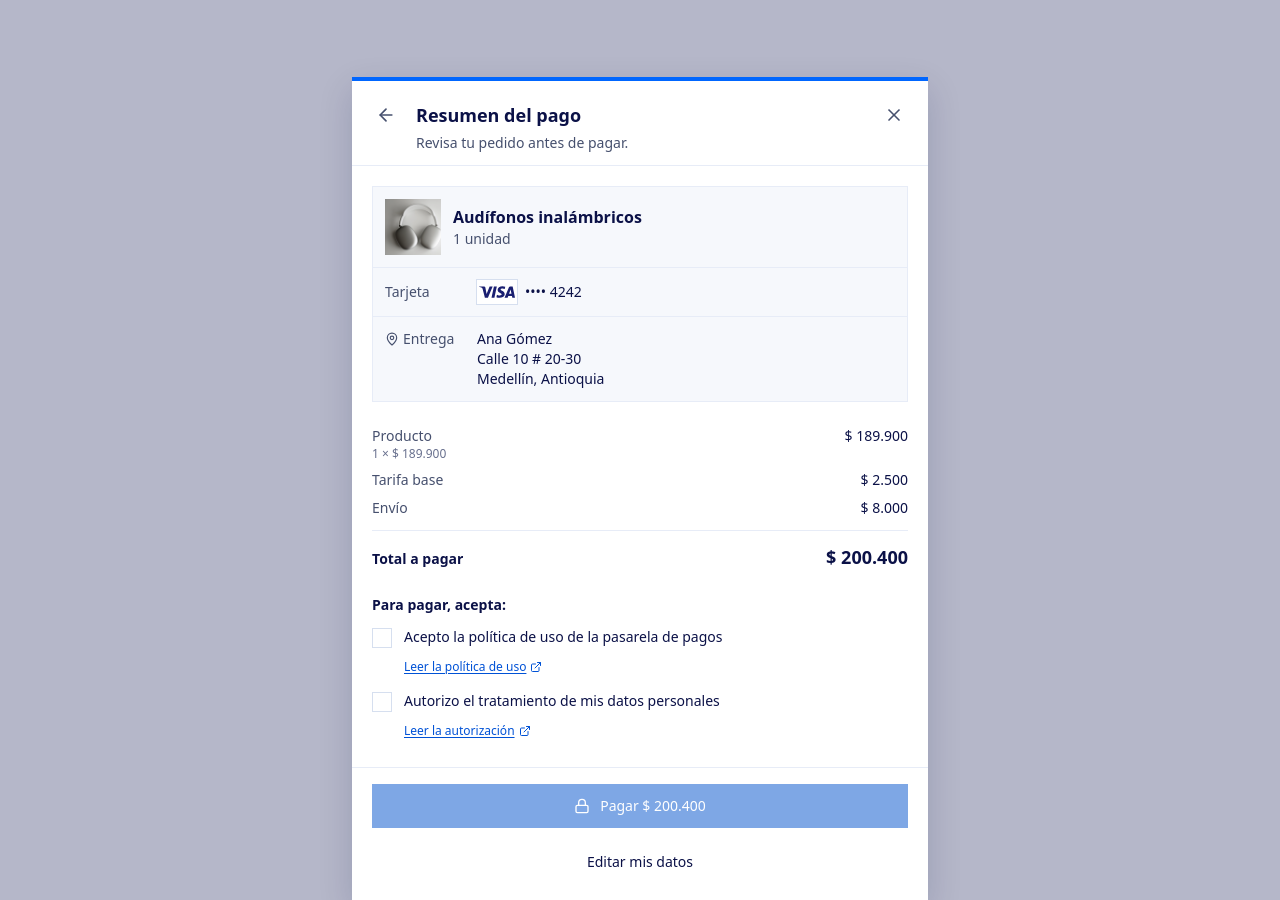
Test: SummaryBackdrop › el pago se habilita solo con los dos contratos aceptados
Expected: the button "Pagar $ 200.400" is disabled, [372,784,908,828]
Step 1. Click the checkbox labelled "Acepto la política de uso de la pasarela de pagos" → (547, 638), box [372,627,722,648]
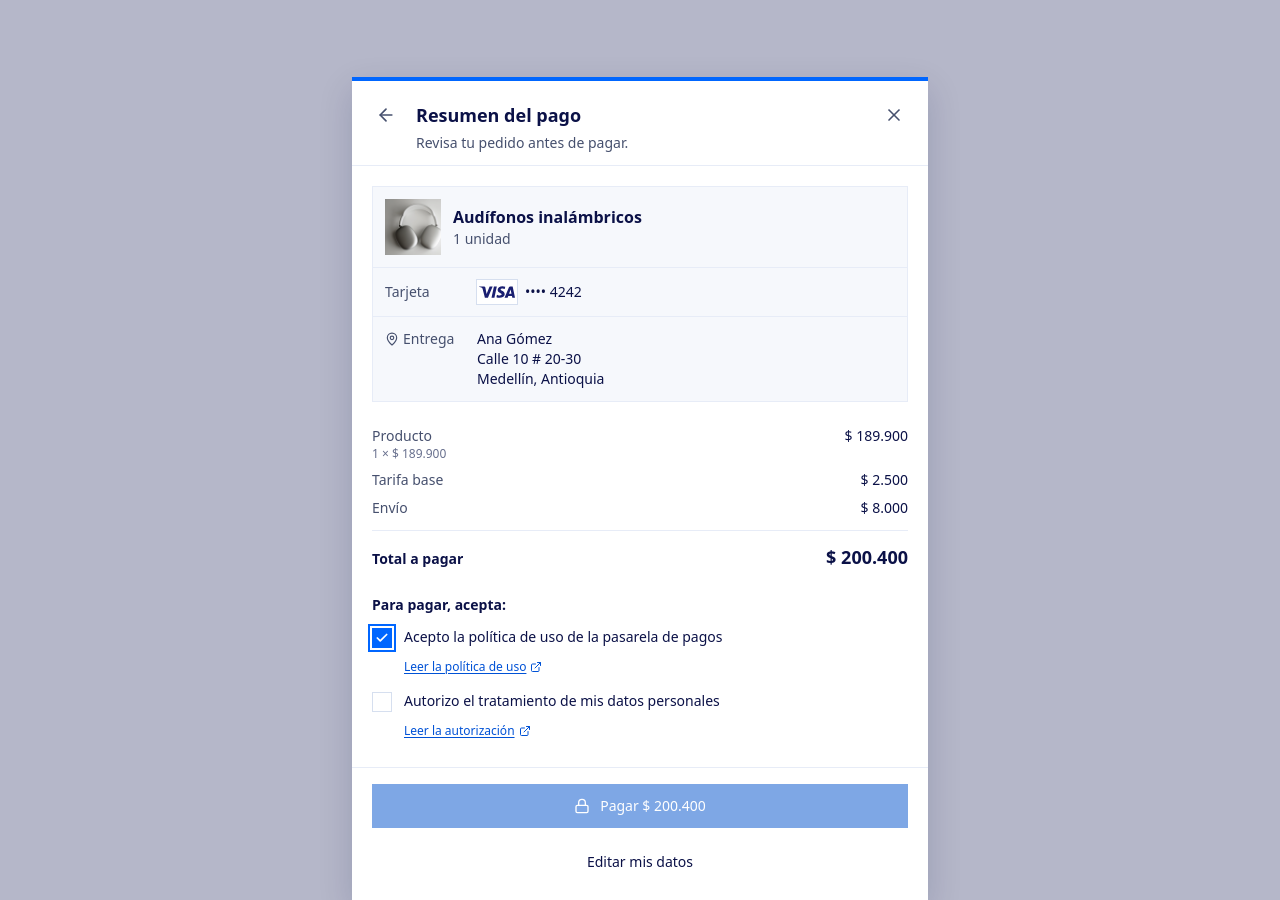
Expected: the button "Pagar $ 200.400" is disabled, [372,784,908,828]
Step 2. Click the checkbox labelled "Autorizo el tratamiento de mis datos personales" → (546, 702), box [372,691,720,712]
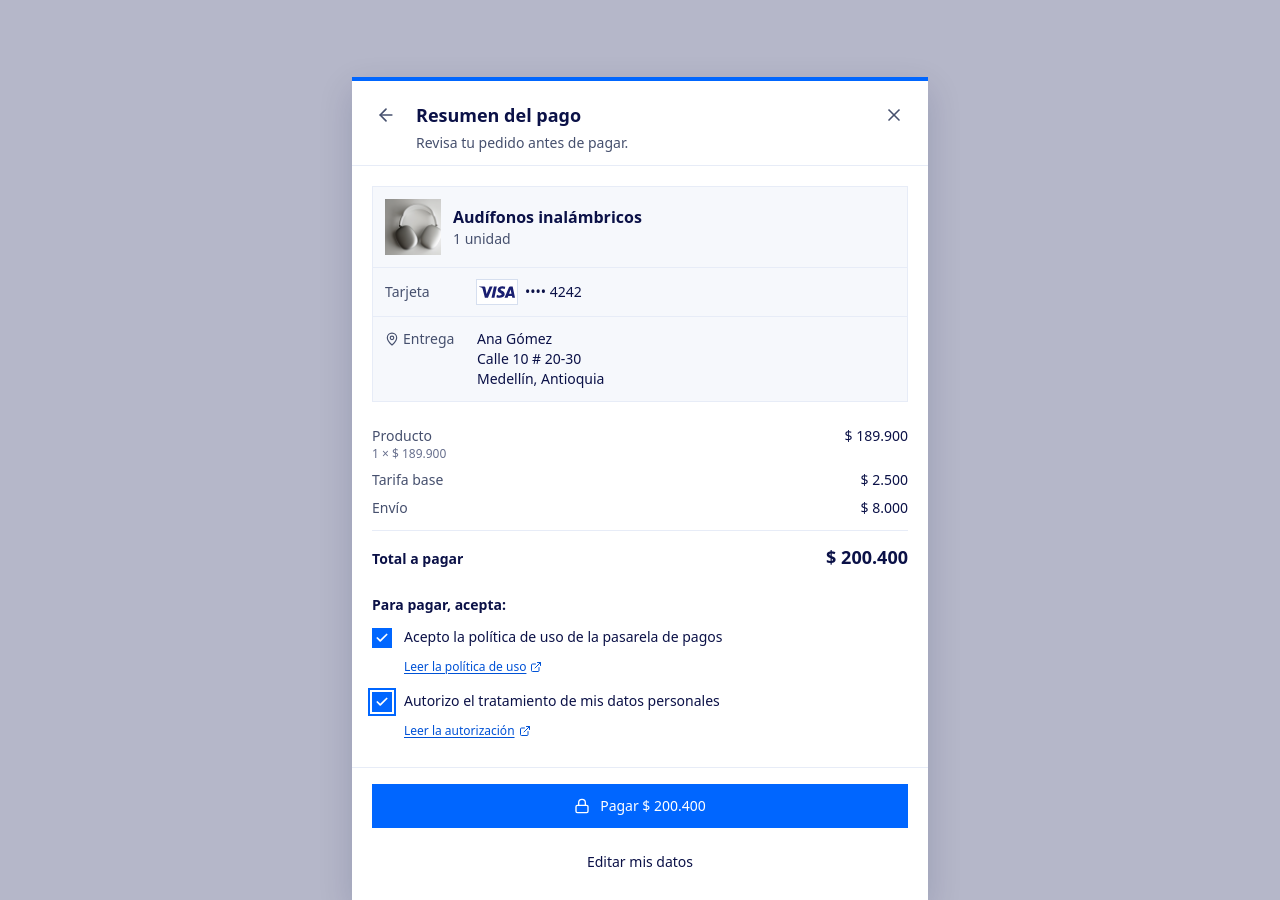
Now the button "Pagar $ 200.400" is enabled, box [372,784,908,828]
